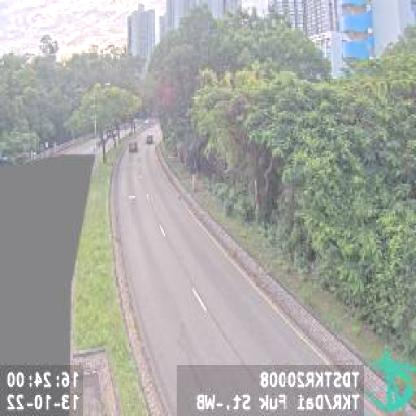Car: (128, 140, 138, 155), (144, 134, 154, 144)
